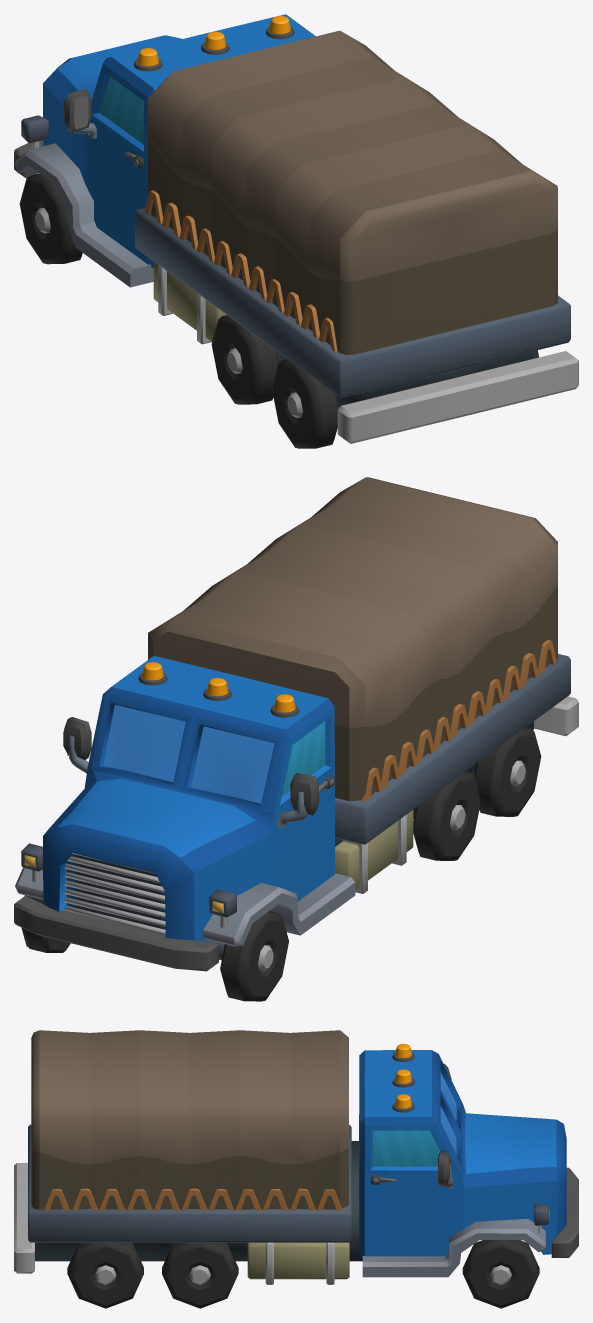
File: Truck_1_D.fbx
3 views of the same model, one above another, from view 1: azimuth 30°, elevation 25°; view 2: azimuth 150°, elevation 25°; view 3: azimuth 270°, elevation 25° (orthographic). The views are drawn at different scales.
Parts seen in each view (by area): view 1: Truck_1_D, Truck_1_D_WL; view 2: Truck_1_D, Truck_1_D_WL, Truck_1_D_WR; view 3: Truck_1_D, Truck_1_D_WR.
Boxes of the visible parts, x1,y1,x2,y2 form: Truck_1_D: (14,14,578,448); Truck_1_D_WL: (19,173,82,264); Truck_1_D: (14,477,578,971); Truck_1_D_WL: (220,911,288,1001); Truck_1_D_WR: (21,895,70,952); Truck_1_D: (14,1030,578,1308); Truck_1_D_WR: (462,1240,539,1308).
Size of the model in its own units: 212 by 210 by 524.
